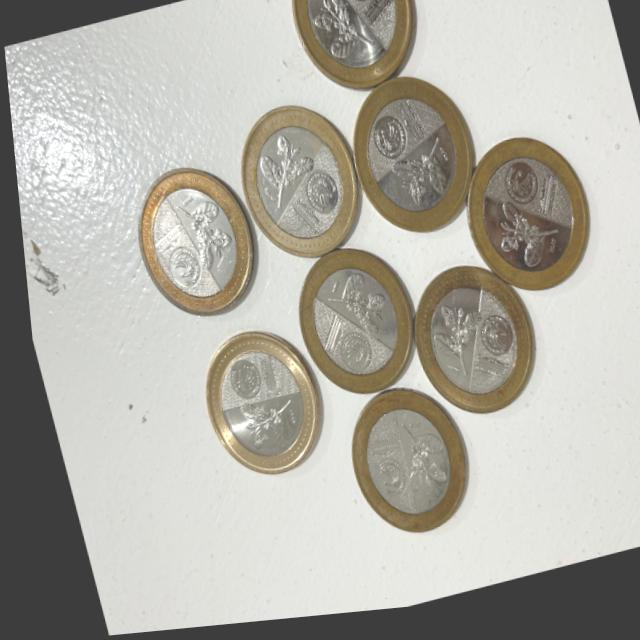20_New_Back: (480, 205, 557, 283), (381, 140, 459, 215), (251, 131, 317, 213), (316, 278, 388, 351), (168, 191, 230, 275), (383, 420, 438, 507), (419, 310, 480, 385), (227, 397, 292, 462), (306, 0, 369, 67)
